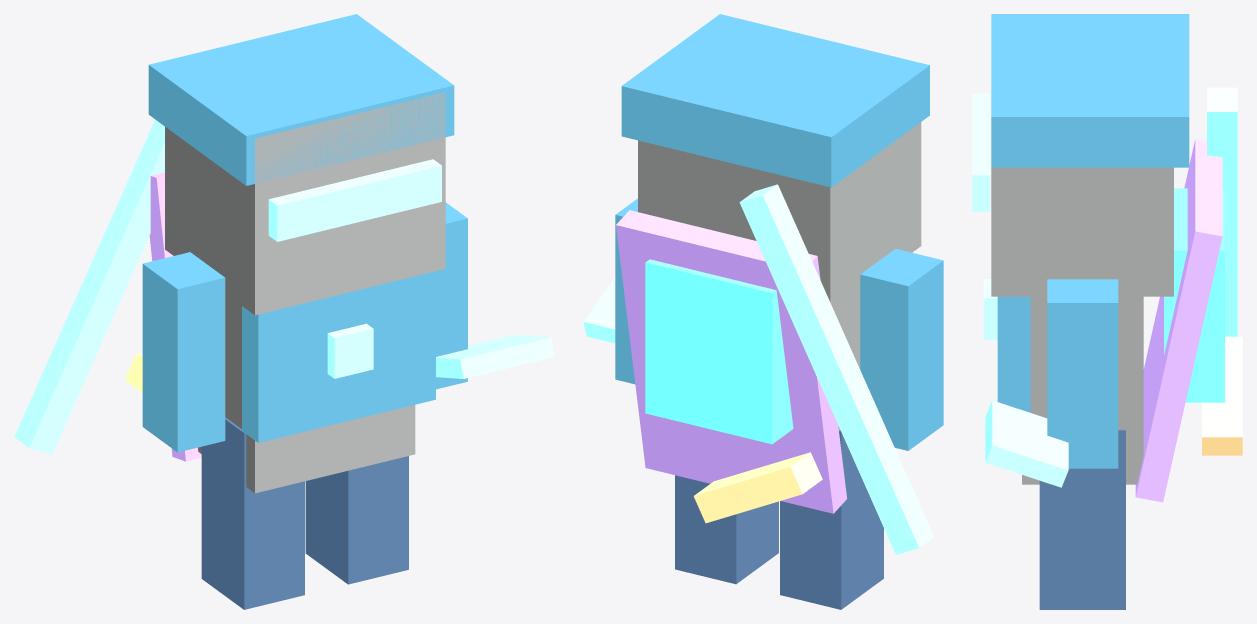
File: vincent-hero.glb
3 views of the same model, side by side, from view 1: azimuth 30°, elevation 25°; view 2: azimuth 150°, elevation 25°; view 3: azimuth 270°, elevation 25° (orthographic).
Parts seen in each view (by area): view 1: Head, Helmet, Armor, LeftArm, LeftLeg, SwordBlade, RightLeg, Torso, Visor, RightArm, Terminal, Badge (+1 smaller); view 2: Helmet, Cape, Head, Backpack, SwordBlade, LeftArm, LeftLeg, RightLeg, SwordHilt, RightArm, Terminal, Torso; view 3: Helmet, Head, Cape, RightArm, RightLeg, Torso, Backpack, Terminal, SwordBlade, Armor, SwordHilt, Visor (+1 smaller).
Part boxes in pixels (bbox=[...]): Head: bbox=[165, 92, 445, 315]; Helmet: bbox=[148, 14, 454, 185]; Armor: bbox=[242, 271, 435, 442]; LeftArm: bbox=[142, 252, 225, 452]; LeftLeg: bbox=[201, 417, 304, 609]; SwordBlade: bbox=[14, 119, 164, 454]; RightLeg: bbox=[305, 456, 408, 584]; Torso: bbox=[198, 294, 415, 493]; Visor: bbox=[268, 159, 441, 241]; RightArm: bbox=[436, 202, 467, 389]; Terminal: bbox=[436, 334, 554, 378]; Badge: bbox=[327, 323, 373, 378]; Helmet: bbox=[621, 14, 929, 187]; Cape: bbox=[616, 210, 846, 513]; Head: bbox=[638, 122, 921, 309]; Backpack: bbox=[645, 259, 793, 444]; SwordBlade: bbox=[739, 184, 933, 554]; LeftArm: bbox=[860, 248, 943, 450]; LeftLeg: bbox=[780, 430, 883, 609]; RightLeg: bbox=[675, 475, 778, 584]; SwordHilt: bbox=[693, 452, 822, 523]; RightArm: bbox=[615, 198, 637, 384]; Terminal: bbox=[583, 277, 615, 343]; Torso: bbox=[834, 291, 860, 430]; Helmet: bbox=[991, 14, 1189, 167]; Head: bbox=[991, 167, 1173, 296]; Cape: bbox=[1135, 139, 1222, 502]; RightArm: bbox=[1047, 279, 1118, 468]; RightLeg: bbox=[1039, 429, 1125, 609]; Torso: bbox=[1022, 296, 1143, 484]; Backpack: bbox=[1164, 188, 1224, 402]; Terminal: bbox=[985, 400, 1068, 487]; SwordBlade: bbox=[1207, 87, 1237, 336]; Armor: bbox=[997, 296, 1030, 412]; SwordHilt: bbox=[1202, 336, 1242, 455]; Visor: bbox=[972, 93, 989, 211].
Size of the model in its own units: 1.92 by 2.19 by 1.06.
